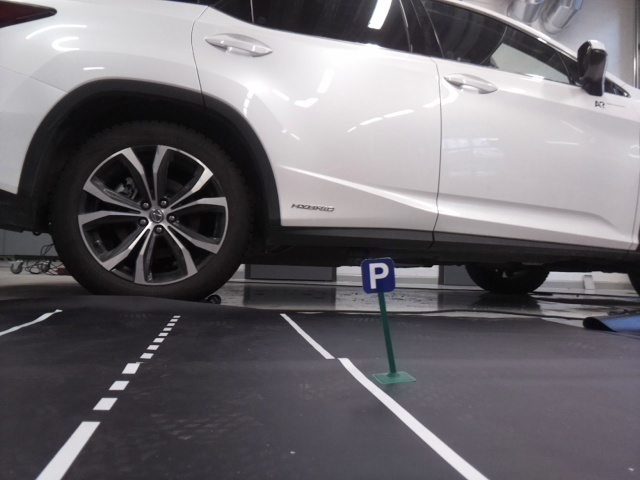Parking: (360, 260, 395, 292)
